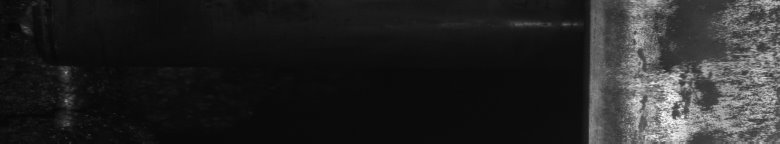kb: (618, 4, 776, 136)
